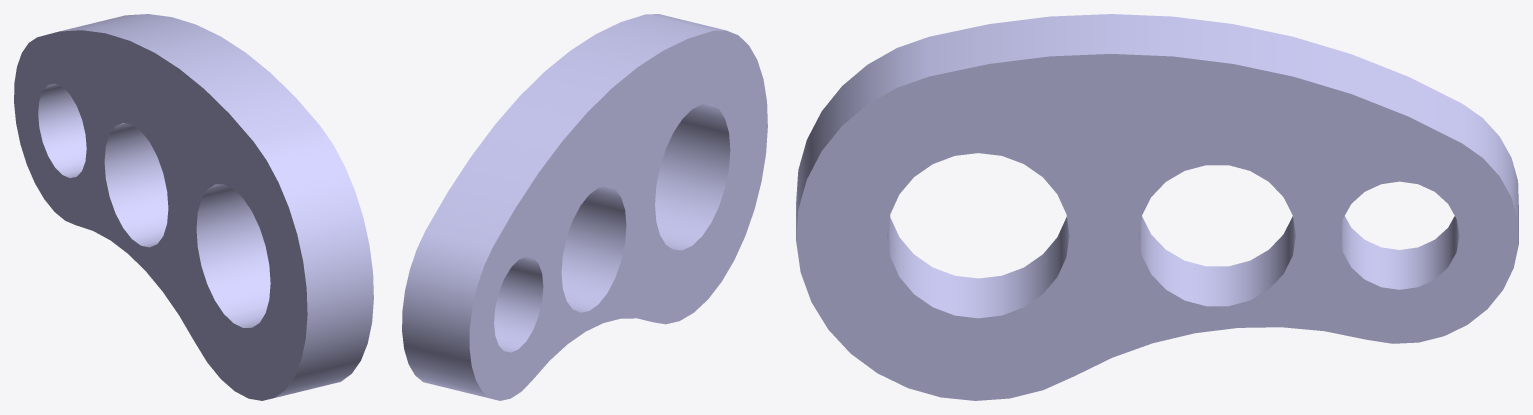
File: 7 Leva 01.fbx
3 views of the same model, side by side, from view 1: azimuth 30°, elevation 25°; view 2: azimuth 150°, elevation 25°; view 3: azimuth 270°, elevation 25° (orthographic). The views are drawn at different scales.
Visible parts, largest first — view 1: PartBody; view 2: PartBody; view 3: PartBody.
Part boxes in pixels (x1,y1,x2,y2): PartBody: [14, 14, 373, 400]; PartBody: [402, 14, 767, 400]; PartBody: [796, 14, 1518, 400].
Bounding box in the file's own units: 0.5906 × 2.4 × 4.52.
